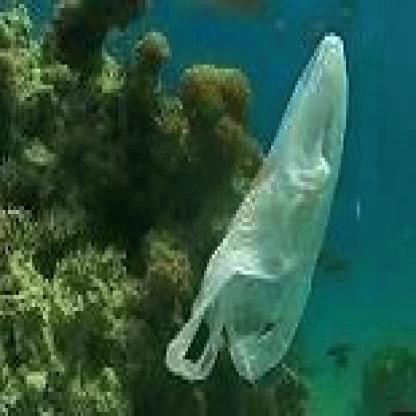plastic: (207, 24, 365, 388)
